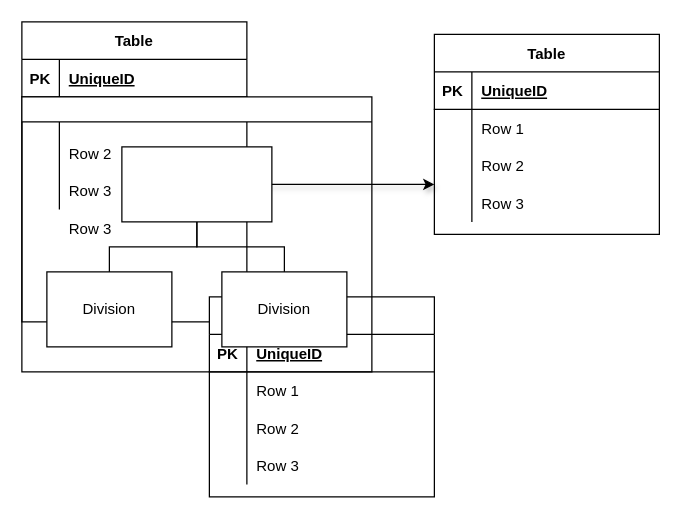
Some shapes in this 681 by 519 pixel diagram are drawn without their labels. The shapes that lost their labels are listed below. From the top down, each one's centre as x and y in pixels, then its label:
(x=196, y=184): Organization
(x=196, y=234): Orgchart
